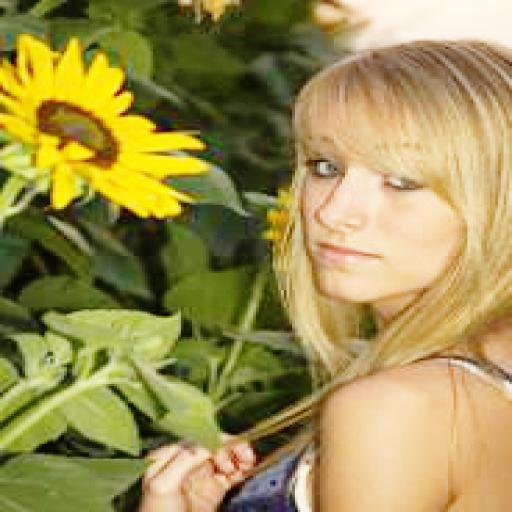sunflower: (0, 44, 186, 222)
